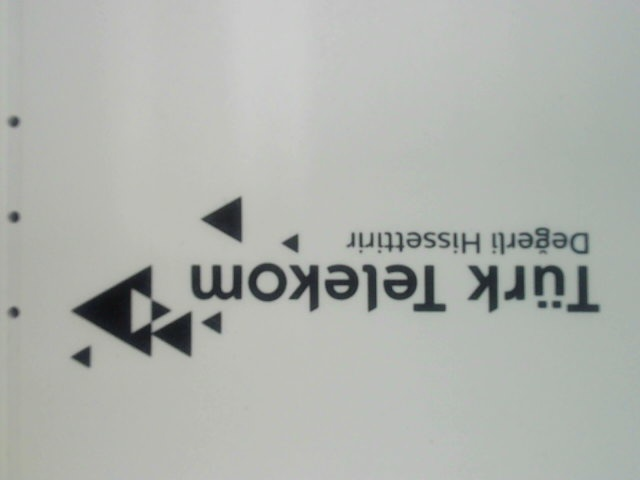AQ_TURKTelekom: (56, 191, 611, 369)
